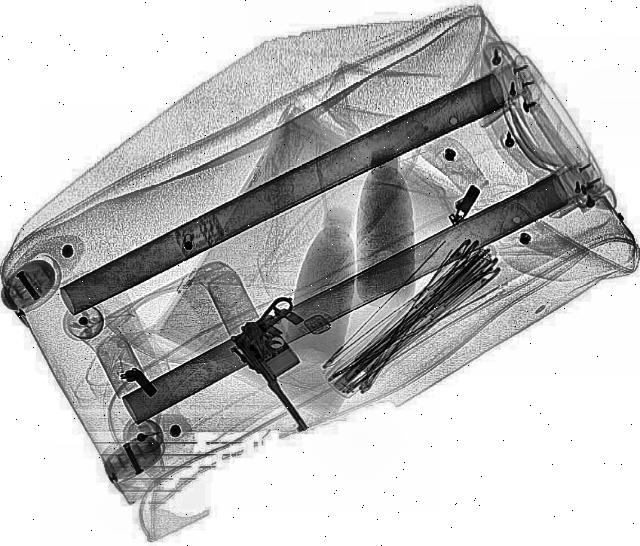Gun: (214, 293, 366, 435)
